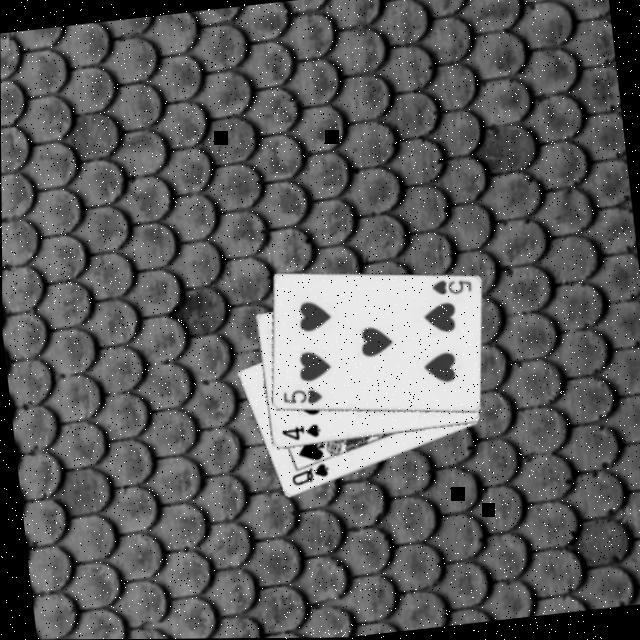4S: (276, 422, 322, 446)
5H: (425, 276, 472, 301), (277, 386, 323, 411)
QS: (286, 462, 332, 491)
